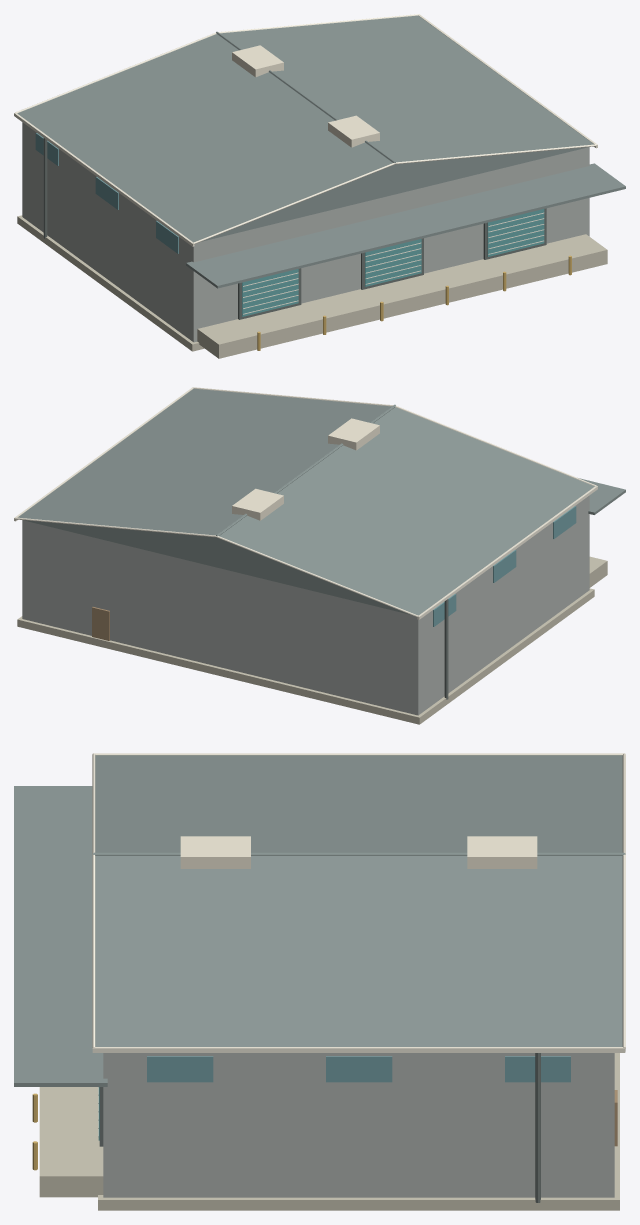
Rendered from warehouse-0.glb.
The picture shows the model from 3 angles, top to bottom: view 1: azimuth 30°, elevation 25°; view 2: azimuth 150°, elevation 25°; view 3: azimuth 270°, elevation 25°; orthographic projection. The views are drawn at different scales.
Size of the model in its own units: 33 by 11.28 by 28.73.
